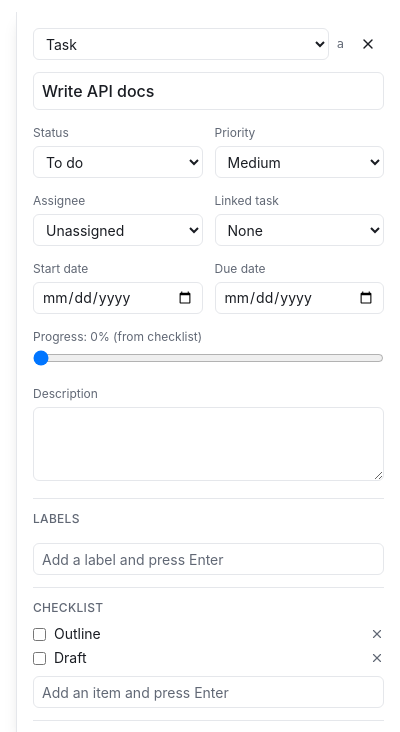
Test: NodePanel › updates status and records it in the activity history
Select "Blocked" in the dropdown labelled "Status" at (118, 162), box [33, 146, 202, 178]
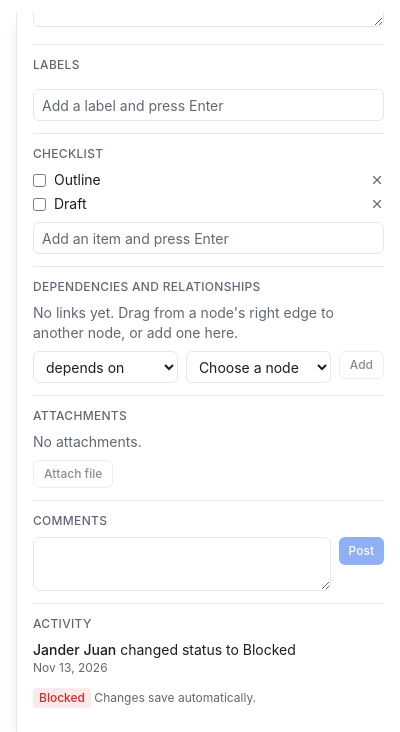
Result: the list item "Jander Juan changed status to Blocked Nov 13, 2026" is shown at [33, 641, 296, 675]
